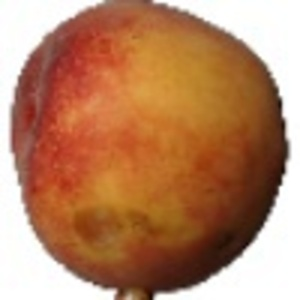pêssego: (8, 1, 290, 300)
